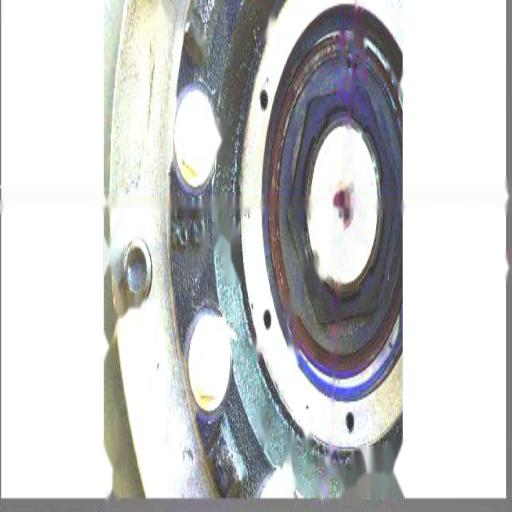center: (335, 186, 347, 215)
notch: (342, 49, 361, 80)
